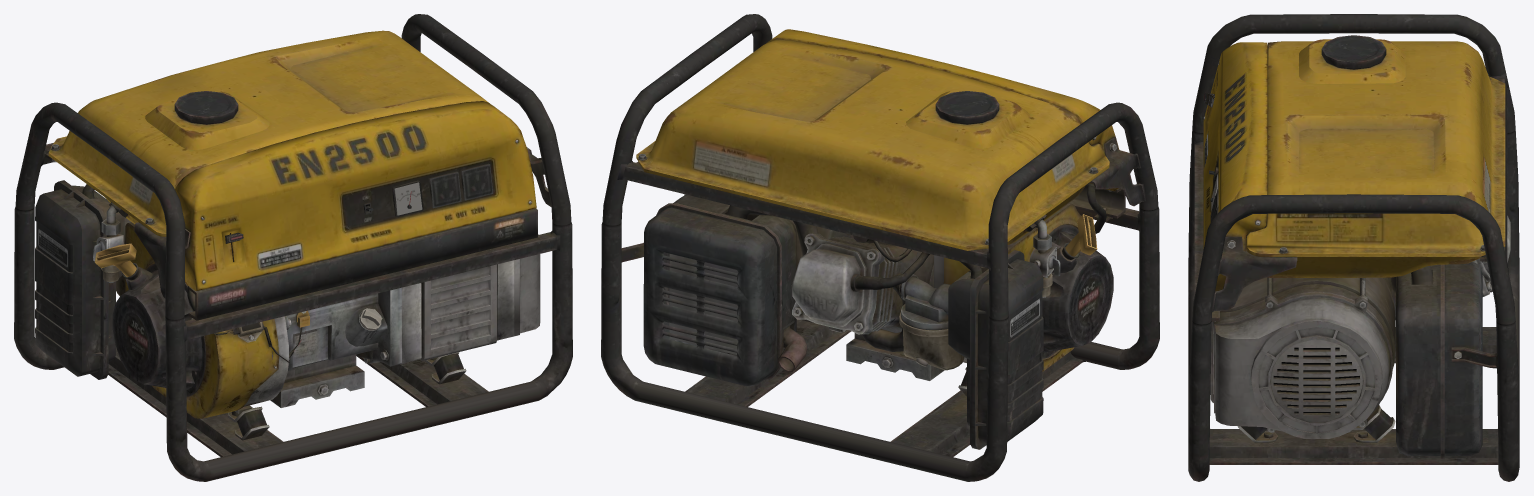
File: portable_generator.glb
3 renders of one model, left to right at view 1: azimuth 30°, elevation 25°; view 2: azimuth 150°, elevation 25°; view 3: azimuth 270°, elevation 25°, orthographic.
Visible parts, largest first — view 1: portable_generator; view 2: portable_generator; view 3: portable_generator.
Boxes of the visible parts, x1,y1,x2,y2 form: portable_generator: [14, 14, 572, 481]; portable_generator: [601, 14, 1159, 481]; portable_generator: [1188, 14, 1519, 481].
Size of the model in its own units: 0.8169 by 0.5752 by 0.564.
2 materials, 2 textured.
